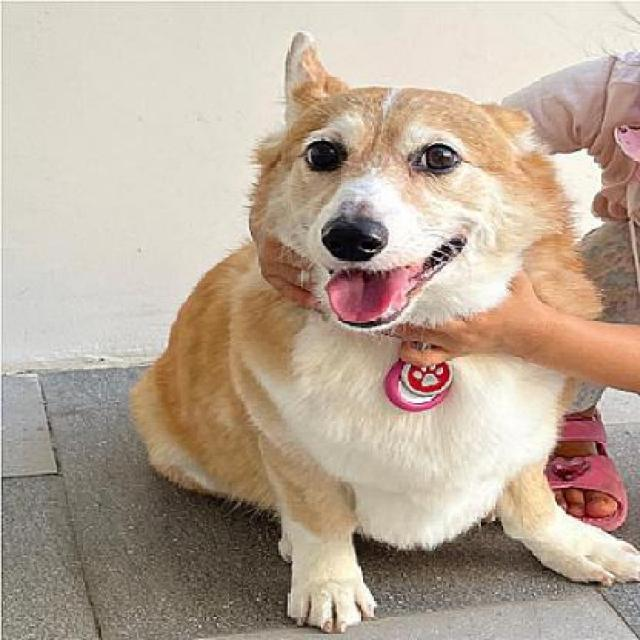Dog: (132, 26, 638, 639)
